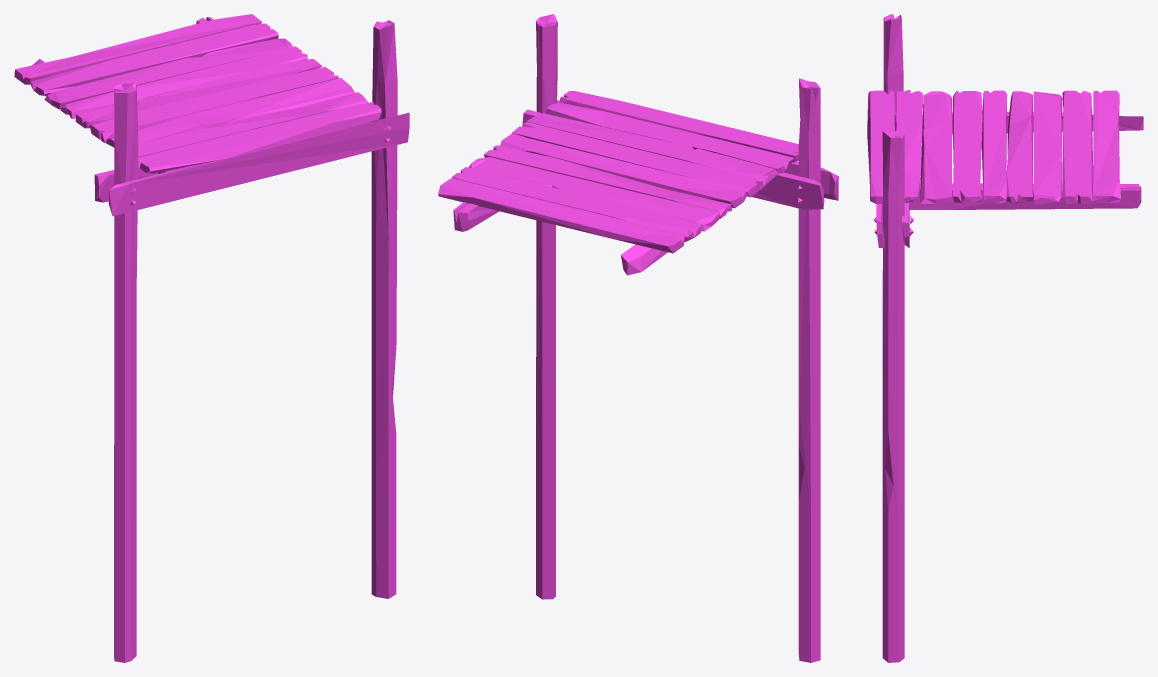
Rendered from SM_Pier_Short_Fantasy.fbx.
3 renders of one model, left to right at view 1: azimuth 30°, elevation 25°; view 2: azimuth 150°, elevation 25°; view 3: azimuth 270°, elevation 25°, orthographic. The views are drawn at different scales.
Parts seen in each view (by area): view 1: SM_Pier_Short_Fantasy; view 2: SM_Pier_Short_Fantasy; view 3: SM_Pier_Short_Fantasy.
Part boxes in pixels (x1,y1,x2,y2): SM_Pier_Short_Fantasy: (14,14,409,662); SM_Pier_Short_Fantasy: (438,14,838,662); SM_Pier_Short_Fantasy: (867,14,1143,662).
Size of the model in its own units: 3.79 by 6.93 by 3.3.
